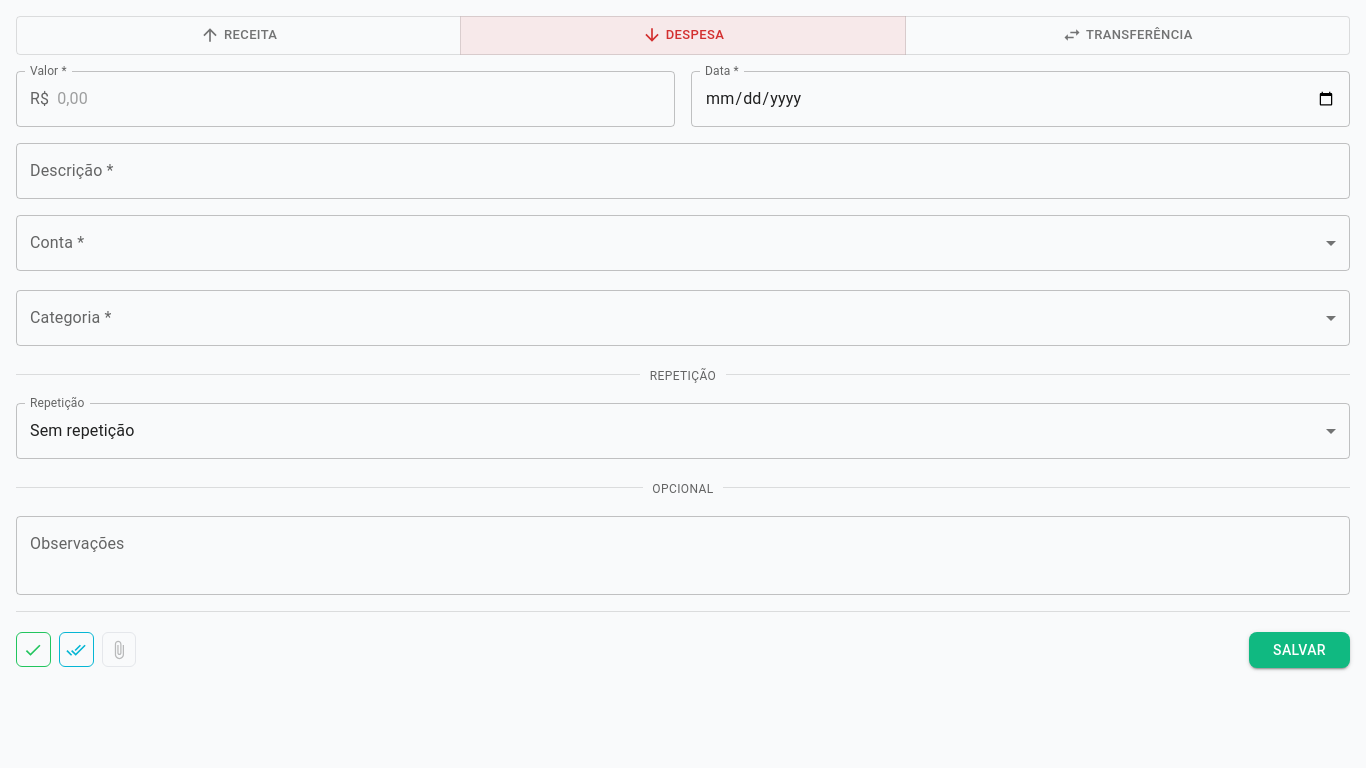
it: TransactionForm › deve exibir opções de repetição: Fixo e Parcelado
The image size is (1366, 768).
Step 1. Press the mouse on the dropdown labelled "Sem repetição" → (82, 431), box [30, 421, 134, 440]
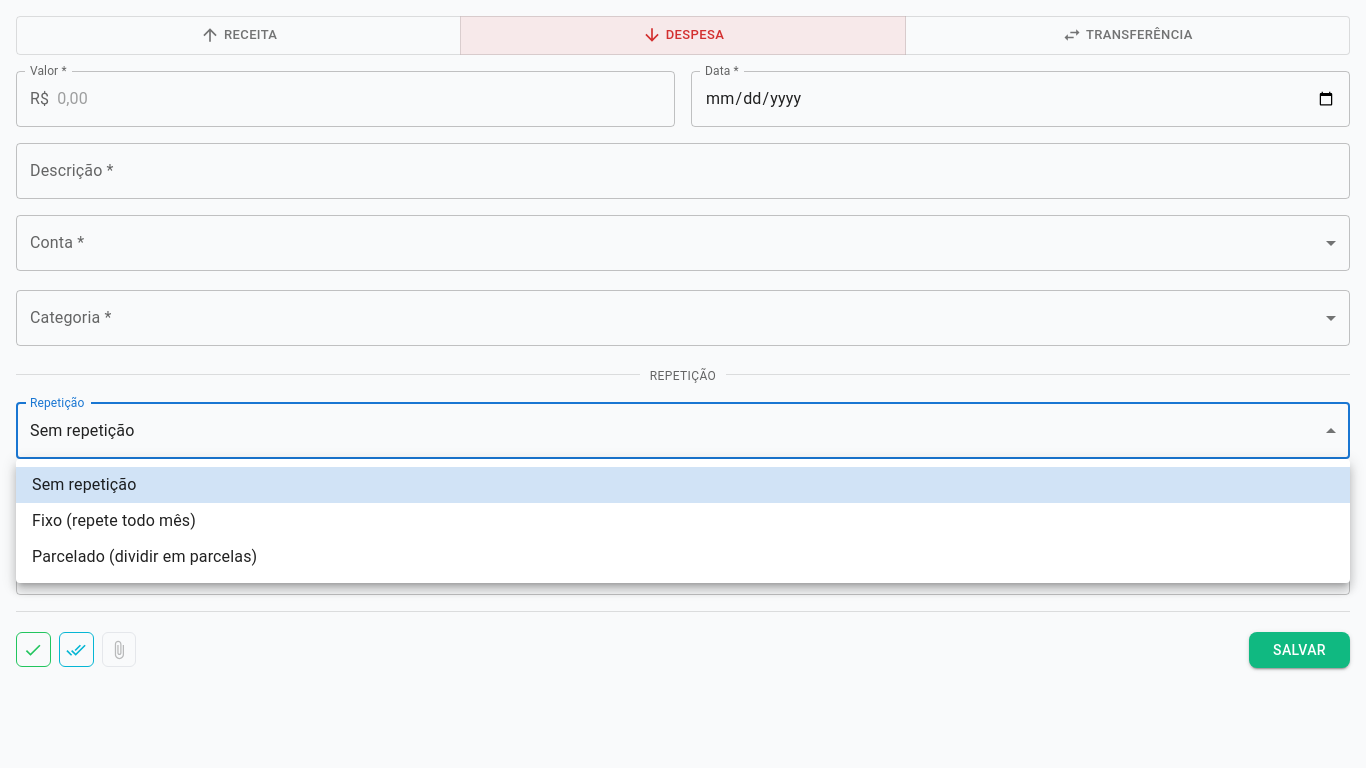
Expected: the option "Fixo (repete todo mês)" is shown, [32, 511, 196, 530]
Expected: the option "Parcelado (dividir em parcelas)" is shown, [32, 547, 257, 566]
